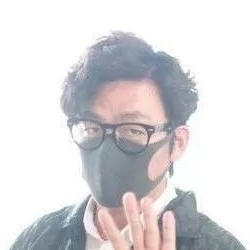mask: (72, 123, 174, 212)
